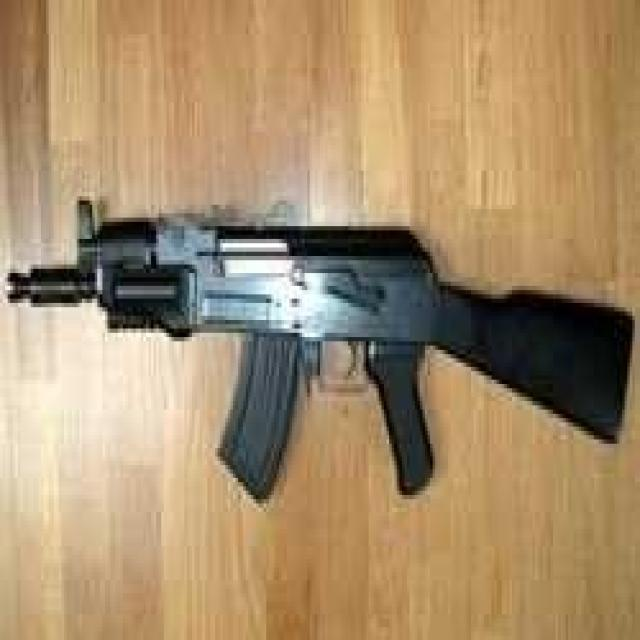heavyweapon: (6, 185, 636, 522)
